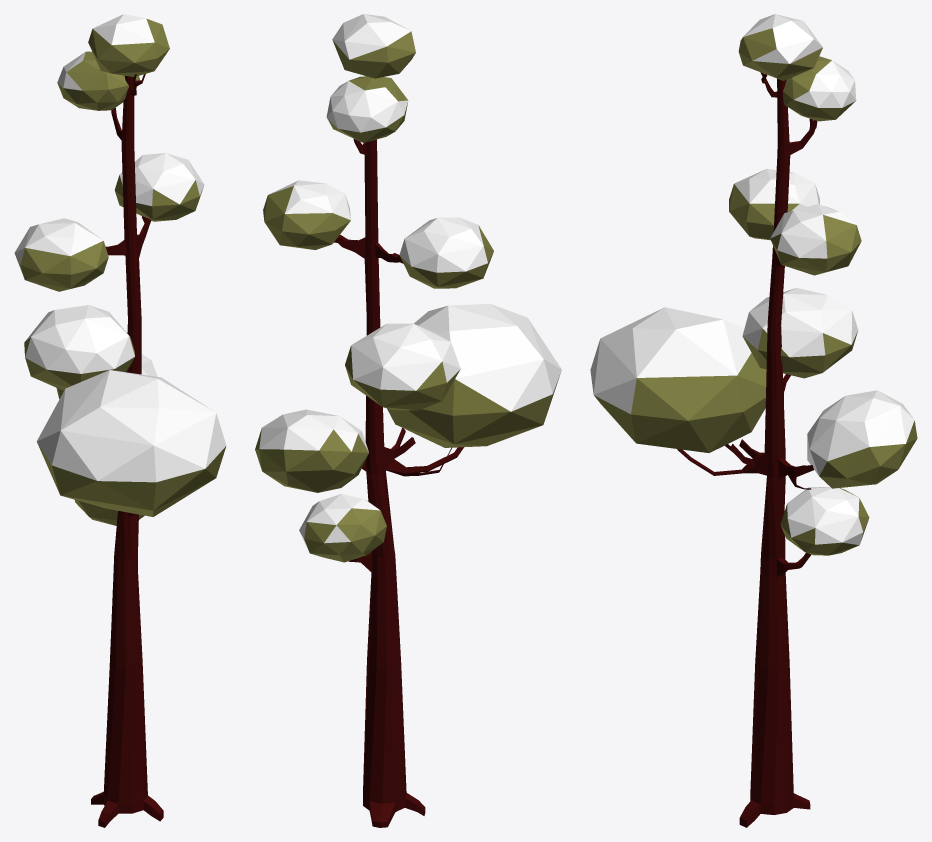
Rendered from SM_Tree_03.fbx.
The picture shows the model from 3 angles, left to right: view 1: azimuth 30°, elevation 25°; view 2: azimuth 150°, elevation 25°; view 3: azimuth 270°, elevation 25°; orthographic projection.
Parts seen in each view (by area): view 1: SM_Tree_03_LOD0; view 2: SM_Tree_03_LOD0; view 3: SM_Tree_03_LOD0.
Boxes of the visible parts, x1,y1,x2,y2 form: SM_Tree_03_LOD0: (14,14,226,827); SM_Tree_03_LOD0: (255,14,561,827); SM_Tree_03_LOD0: (590,14,917,827).
Size of what is drawn, in the model's own units: 320 by 1129 by 419.
